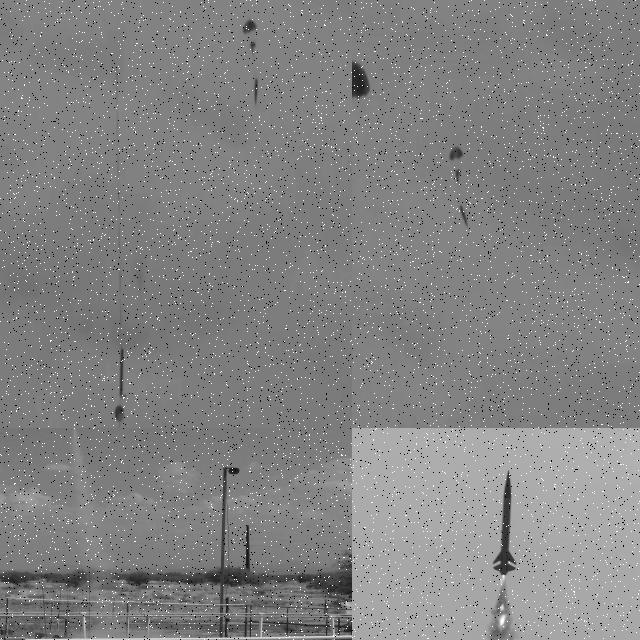Rocket: (492, 470, 518, 576), (120, 348, 127, 398), (51, 614, 60, 638)
